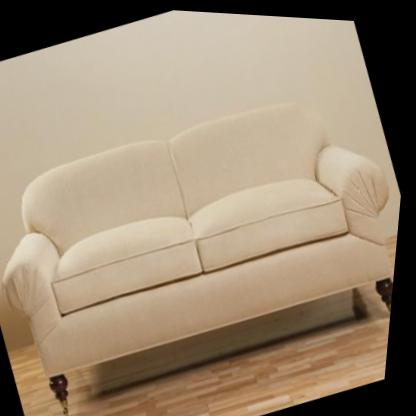Sofa: (0, 52, 412, 416)
